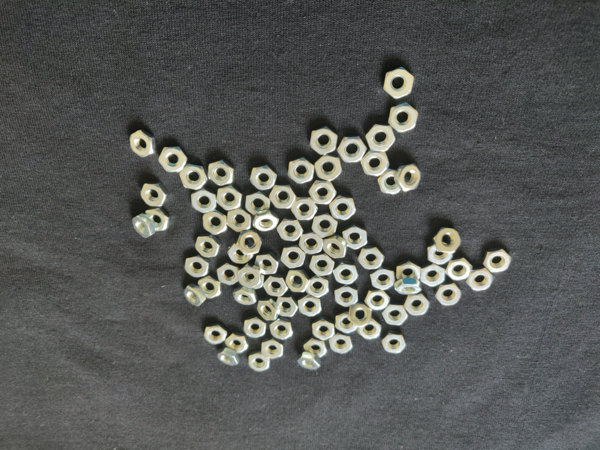nut: (364, 122, 398, 153), (384, 66, 415, 99), (390, 101, 419, 133), (309, 125, 340, 154), (248, 163, 280, 191), (396, 163, 425, 192), (209, 158, 237, 187), (142, 178, 169, 208), (270, 182, 298, 210), (484, 247, 513, 274), (287, 154, 312, 185), (338, 136, 366, 163), (314, 154, 341, 182), (179, 164, 207, 191), (131, 128, 155, 159), (435, 227, 462, 254), (436, 282, 464, 308), (362, 150, 390, 176), (161, 144, 187, 172), (214, 186, 243, 211), (329, 195, 356, 221), (309, 178, 336, 204), (253, 209, 280, 235), (311, 213, 338, 238), (237, 230, 264, 255), (356, 248, 386, 270), (278, 217, 303, 243), (196, 233, 221, 259), (333, 262, 360, 286), (203, 208, 227, 235), (191, 188, 216, 213), (421, 263, 445, 289), (370, 267, 396, 291), (342, 225, 368, 249), (184, 253, 208, 278), (197, 274, 221, 299), (377, 169, 400, 195), (292, 197, 318, 220), (227, 206, 250, 232), (468, 269, 495, 291), (146, 206, 170, 230), (238, 266, 262, 290), (308, 276, 332, 300), (329, 332, 354, 355), (298, 234, 324, 256), (277, 293, 299, 319), (229, 245, 257, 265), (310, 254, 334, 277), (336, 283, 359, 307), (312, 316, 335, 340), (425, 246, 454, 265), (382, 334, 407, 356), (405, 295, 431, 316), (364, 289, 390, 310), (449, 258, 472, 281), (226, 333, 249, 356), (281, 246, 305, 268), (203, 324, 227, 346), (299, 293, 321, 317), (348, 304, 370, 328), (243, 317, 267, 339), (396, 261, 421, 282), (383, 304, 408, 325), (256, 254, 280, 275), (324, 236, 345, 259), (262, 337, 283, 360), (185, 284, 205, 308), (245, 193, 270, 212), (218, 262, 237, 287), (286, 269, 307, 291), (357, 321, 380, 341), (262, 276, 286, 295), (134, 213, 151, 239), (271, 319, 292, 340), (250, 353, 272, 373), (335, 312, 356, 332), (257, 298, 277, 319), (233, 287, 255, 306), (395, 280, 422, 295), (299, 353, 321, 371), (218, 349, 238, 367), (305, 341, 328, 356)
